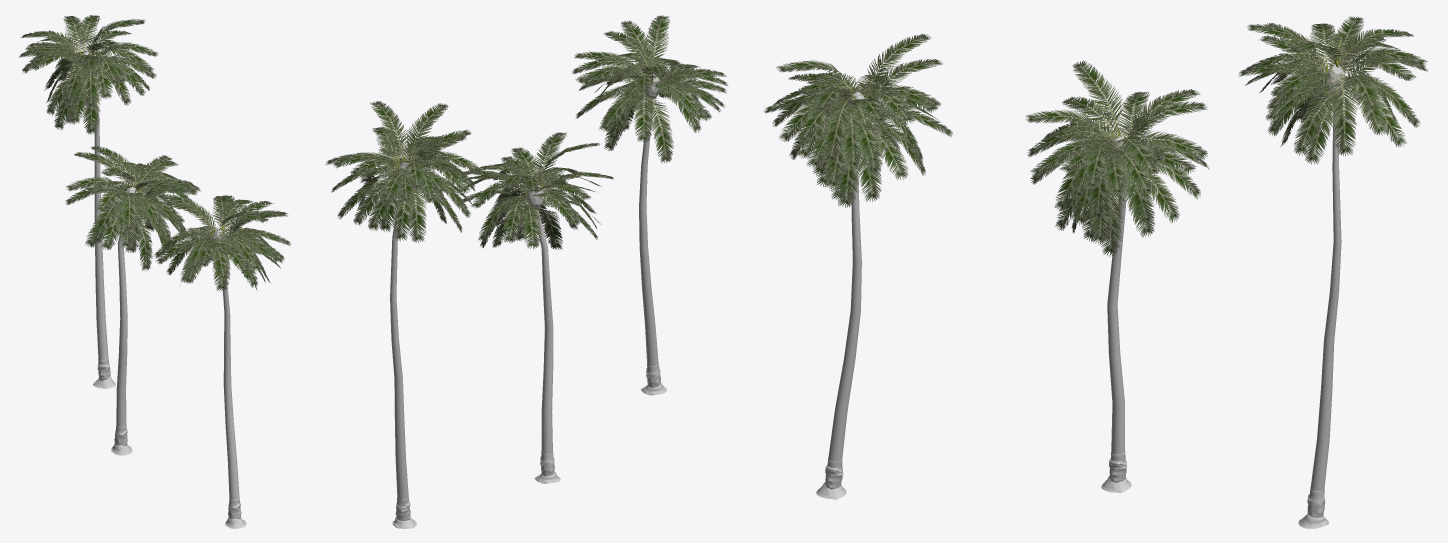
Rendered from PalmLOWPack.fbx.
3 renders of one model, left to right at view 1: azimuth 30°, elevation 25°; view 2: azimuth 150°, elevation 25°; view 3: azimuth 270°, elevation 25°, orthographic. The views are drawn at different scales.
Visible parts, largest first — view 1: PALMLOW3, PALMLOW2, PALMLOW; view 2: PALMLOW3, PALMLOW, PALMLOW2; view 3: PALMLOW2, PALMLOW3, PALMLOW.
Boxes of the visible parts, x1,y1,x2,y2 form: PALMLOW3: (19,15,158,388); PALMLOW2: (65,145,200,455); PALMLOW: (154,193,290,528); PALMLOW3: (325,101,482,528); PALMLOW: (572,15,728,395); PALMLOW2: (460,132,613,483); PALMLOW2: (1025,60,1209,492); PALMLOW3: (1238,16,1427,528); PALMLOW: (763,33,952,499).
Bounding box in the file's own units: 522 × 1108 × 1368.
